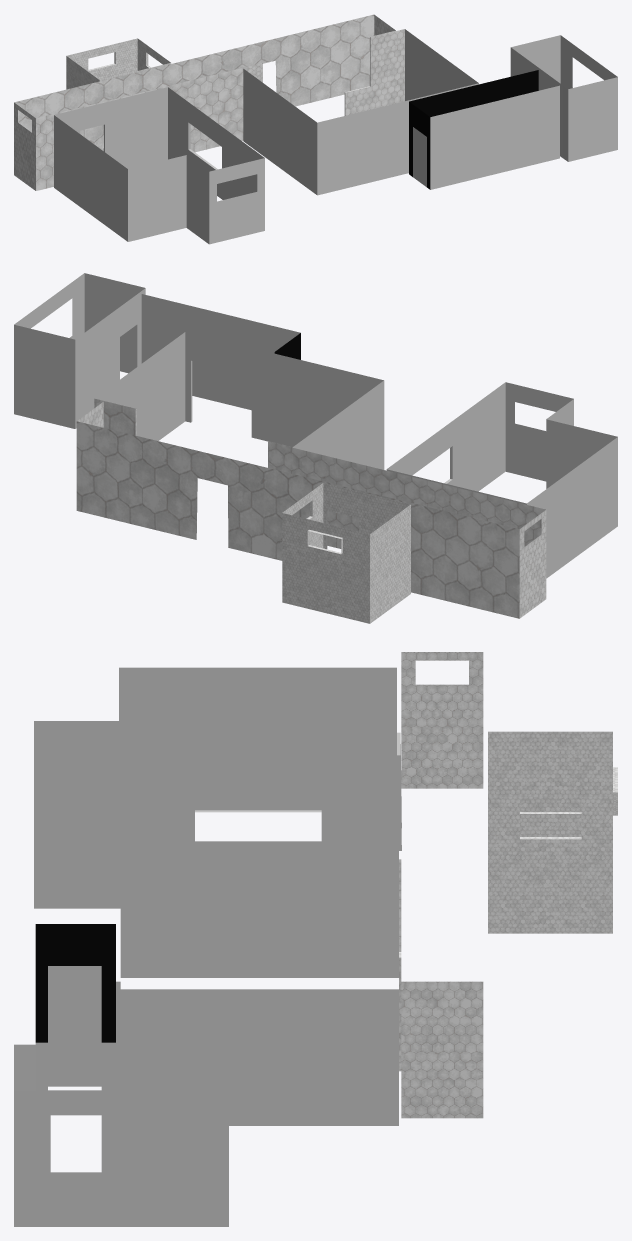
The model's file is Walls.fbx.
3 views of the same model, one above another, from view 1: azimuth 30°, elevation 25°; view 2: azimuth 150°, elevation 25°; view 3: azimuth 270°, elevation 25° (orthographic). The views are drawn at different scales.
Visible parts, largest first — view 1: Parede s N2, Parede e S, Parede q Oe.001, Parede s S, Parede s O, Parede q O, Parede q N, Parede q S1, Parede q E, Parede q S2, Parede s E, Parede e N (+5 smaller); view 2: Parede s N2, Parede q Oe.001, Parede s S, Parede wc N, Parede e S, Parede q O, Parede q E, Parede s E, Parede s O, Parede wc O, Parede q S2, Parede q S1 (+3 smaller); view 3: Parede s O, Parede q Oe.001, Parede s E, Parede q O, Parede q E, Parede s N2, Parede wc E, Parede wc O, Parede e O, Parede q Oe.
Part boxes in pixels (x1=…): Parede s N2: x1=14, y1=14, x2=404, y2=190; Parede e S: x1=430, y1=85, x2=559, y2=189; Parede q Oe.001: x1=510, y1=35, x2=617, y2=161; Parede s S: x1=317, y1=83, x2=478, y2=195; Parede s O: x1=243, y1=69, x2=317, y2=194; Parede q O: x1=54, y1=115, x2=127, y2=241; Parede q N: x1=54, y1=87, x2=167, y2=169; Parede q S1: x1=128, y1=155, x2=186, y2=241; Parede q E: x1=168, y1=87, x2=264, y2=199; Parede q S2: x1=209, y1=158, x2=264, y2=244; Parede s E: x1=405, y1=29, x2=478, y2=100; Parede e N: x1=409, y1=70, x2=538, y2=116; Parede s N2: x1=76, y1=398, x2=546, y2=618; Parede q Oe.001: x1=14, y1=273, x2=145, y2=428; Parede s S: x1=185, y1=332, x2=383, y2=446; Parede wc N: x1=282, y1=513, x2=369, y2=623; Parede e S: x1=141, y1=294, x2=300, y2=410; Parede q O: x1=527, y1=437, x2=617, y2=578; Parede q E: x1=387, y1=382, x2=505, y2=491; Parede s E: x1=94, y1=332, x2=185, y2=440; Parede s O: x1=293, y1=380, x2=384, y2=469; Parede wc O: x1=370, y1=504, x2=410, y2=623; Parede q S2: x1=505, y1=382, x2=573, y2=481; Parede q S1: x1=546, y1=419, x2=617, y2=488; Parede s O: x1=120, y1=841, x2=398, y2=977; Parede q Oe.001: x1=14, y1=1044, x2=228, y2=1226; Parede s E: x1=120, y1=989, x2=398, y2=1125; Parede q O: x1=119, y1=667, x2=396, y2=771; Parede q E: x1=34, y1=772, x2=396, y2=908; Parede s N2: x1=399, y1=652, x2=483, y2=1118; Parede wc E: x1=488, y1=797, x2=612, y2=933; Parede wc O: x1=488, y1=731, x2=612, y2=836; Parede e O: x1=35, y1=924, x2=115, y2=1042; Parede q Oe: x1=34, y1=721, x2=118, y2=771.
Size of the model in its own units: 21.35 by 3.1 by 12.43.
